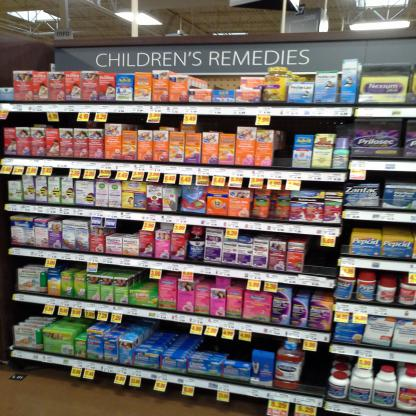Void: (308, 241, 336, 279), (308, 358, 326, 400), (300, 118, 348, 132), (278, 118, 291, 166), (369, 174, 414, 184)
